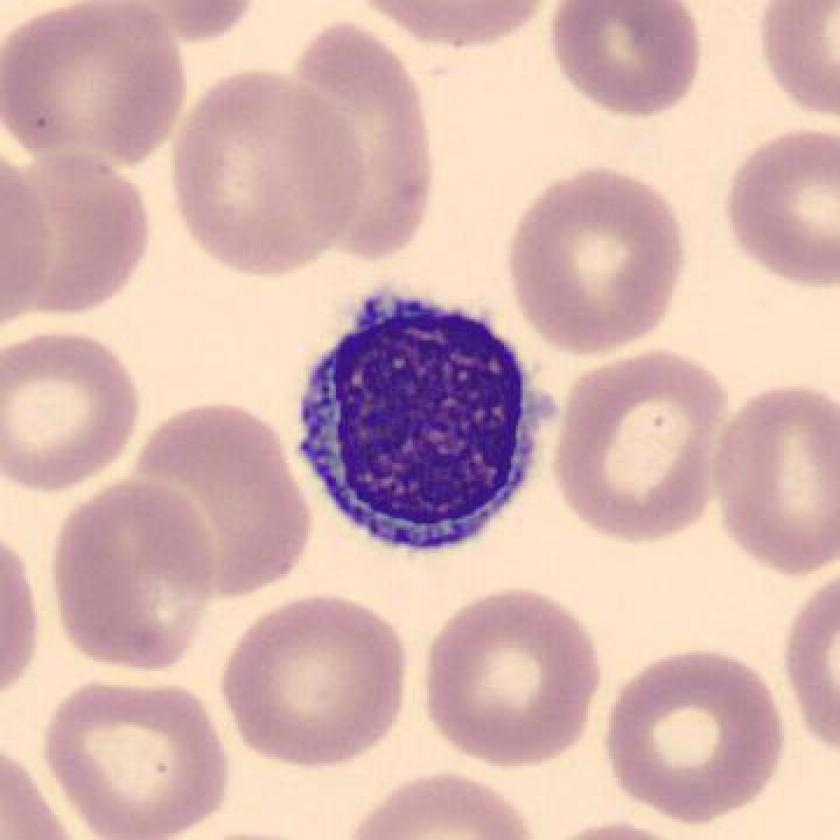lymphocyte: (276, 270, 561, 564)
